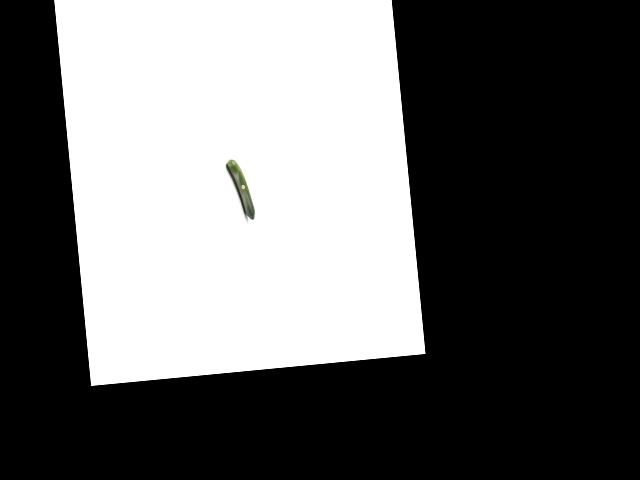cucumber: (226, 157, 255, 221)
